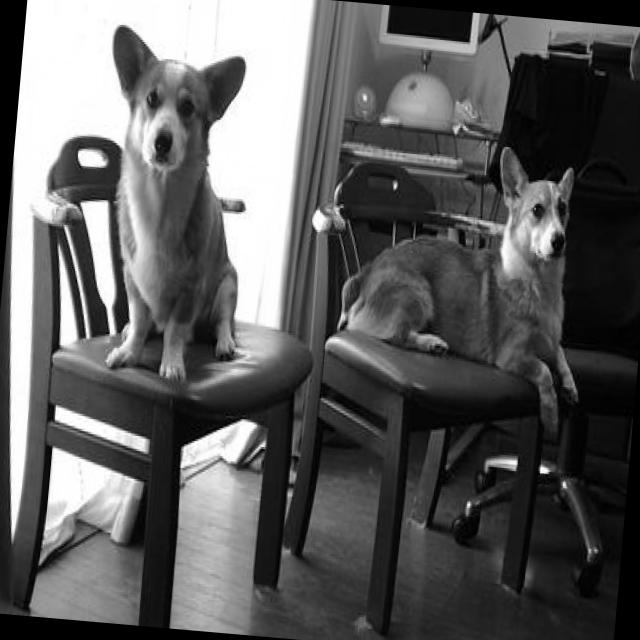laying down: (317, 126, 614, 452)
sitting: (76, 18, 266, 391)
